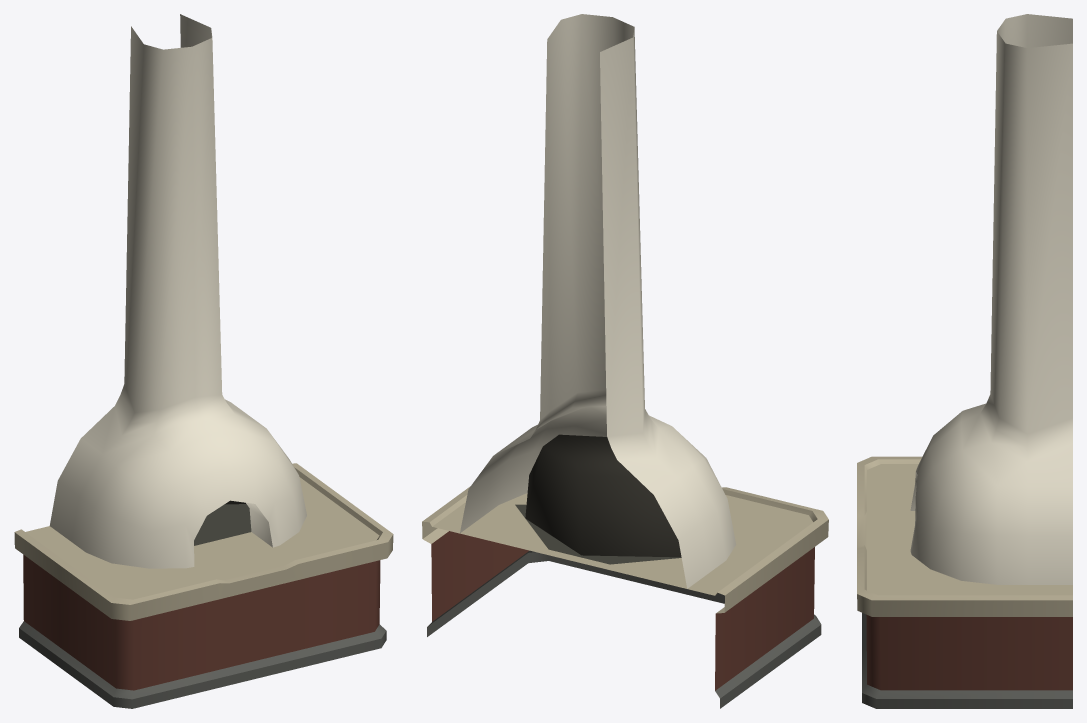
Rendered from Oven.glb.
3 renders of one model, left to right at view 1: azimuth 30°, elevation 25°; view 2: azimuth 150°, elevation 25°; view 3: azimuth 270°, elevation 25°, orthographic. The views are drawn at different scales.
Visible parts, largest first — view 1: Oven.001; view 2: Oven.001; view 3: Oven.001.
Part boxes in pixels (box(x1,y1,x2,y2)): Oven.001: box(14, 14, 393, 708); Oven.001: box(422, 14, 828, 708); Oven.001: box(857, 14, 1072, 708).
Size of the model in its own units: 2.16 by 4.28 by 1.38.
Materials: 1 (1 with a texture image).
